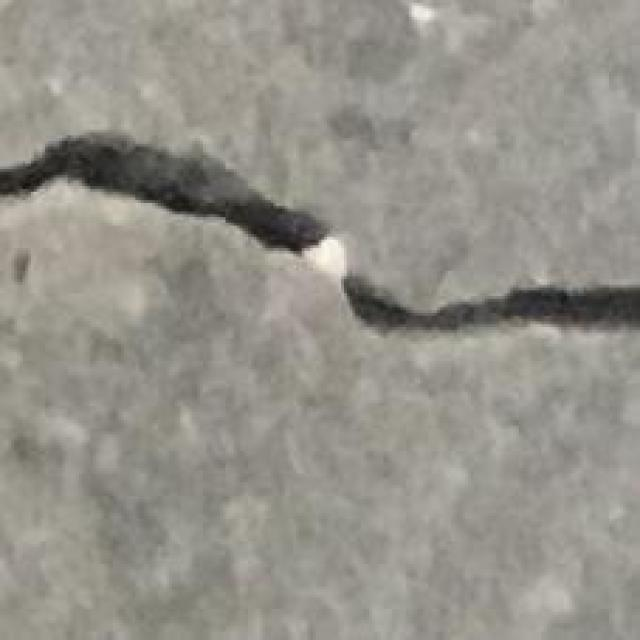Crack: (11, 113, 640, 350)
